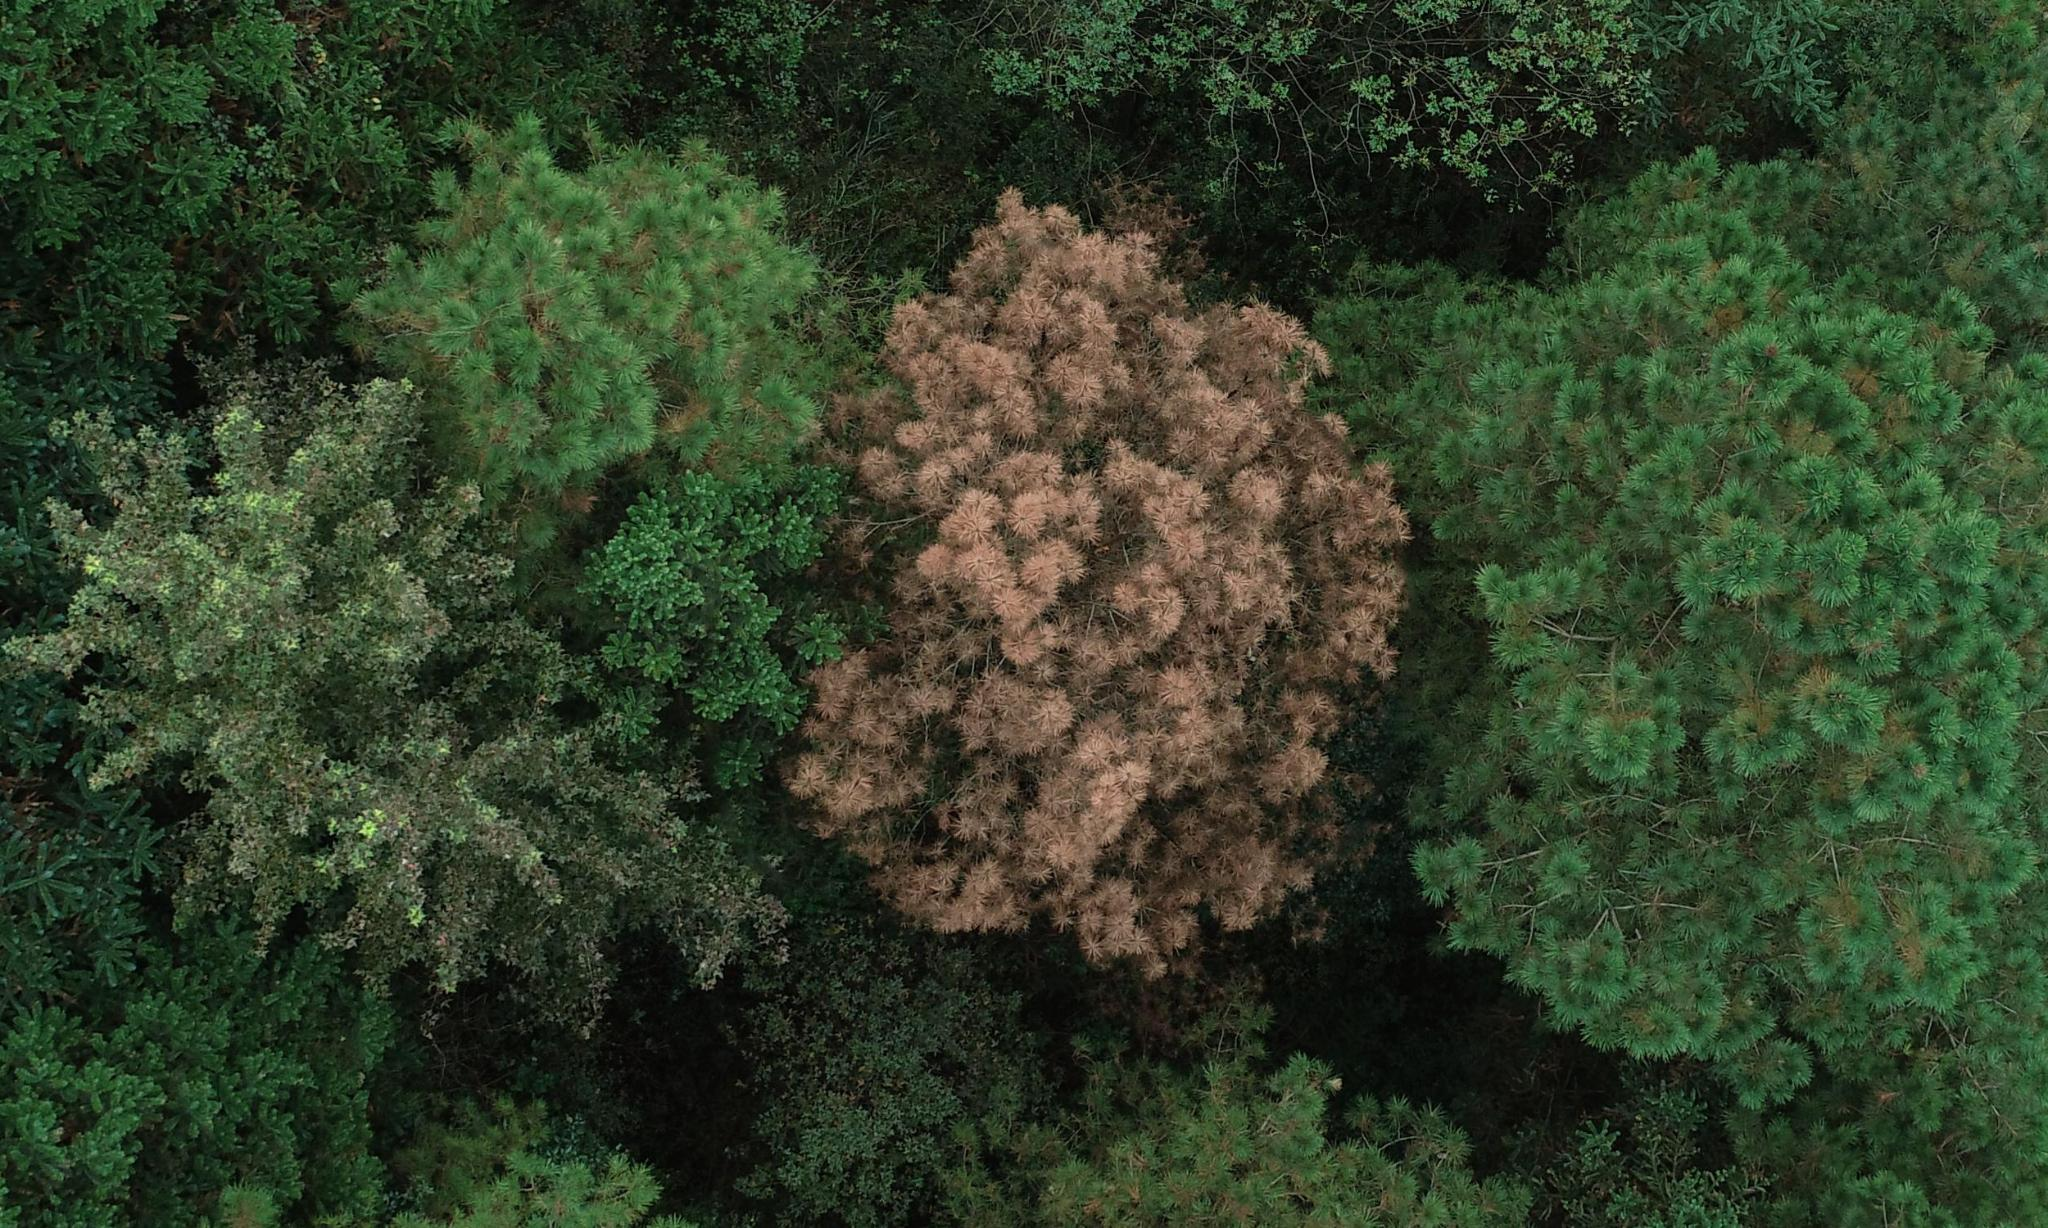heavy: (769, 171, 1399, 985)
light: (1430, 178, 2023, 1092), (349, 91, 748, 520)
